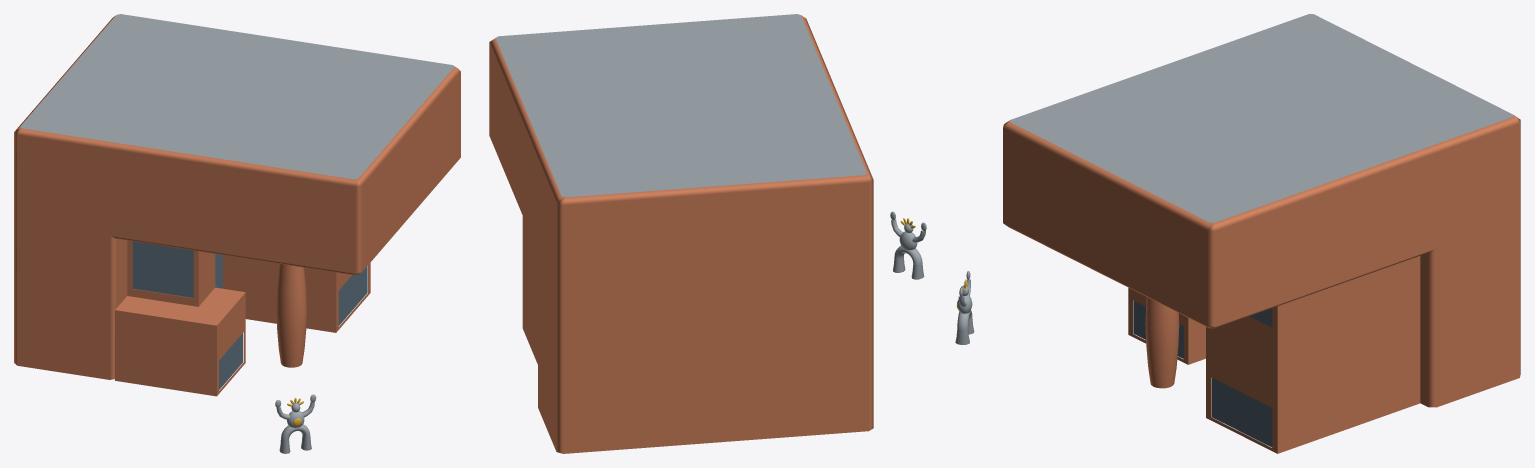
File: detail.glb
3 views of the same model, side by side, from view 1: azimuth 30°, elevation 25°; view 2: azimuth 150°, elevation 25°; view 3: azimuth 270°, elevation 25° (orthographic). The views are drawn at different scales.
Visible parts, largest first — view 1: bechtler-museum-of-modern-art; view 2: bechtler-museum-of-modern-art; view 3: bechtler-museum-of-modern-art.
Boxes of the visible parts, box(x1,y1,x2,y2) form: bechtler-museum-of-modern-art: box(14, 14, 460, 453); bechtler-museum-of-modern-art: box(489, 14, 926, 453); bechtler-museum-of-modern-art: box(955, 14, 1520, 453).
Bounding box in the file's own units: 42.48 × 24.03 × 47.28.
